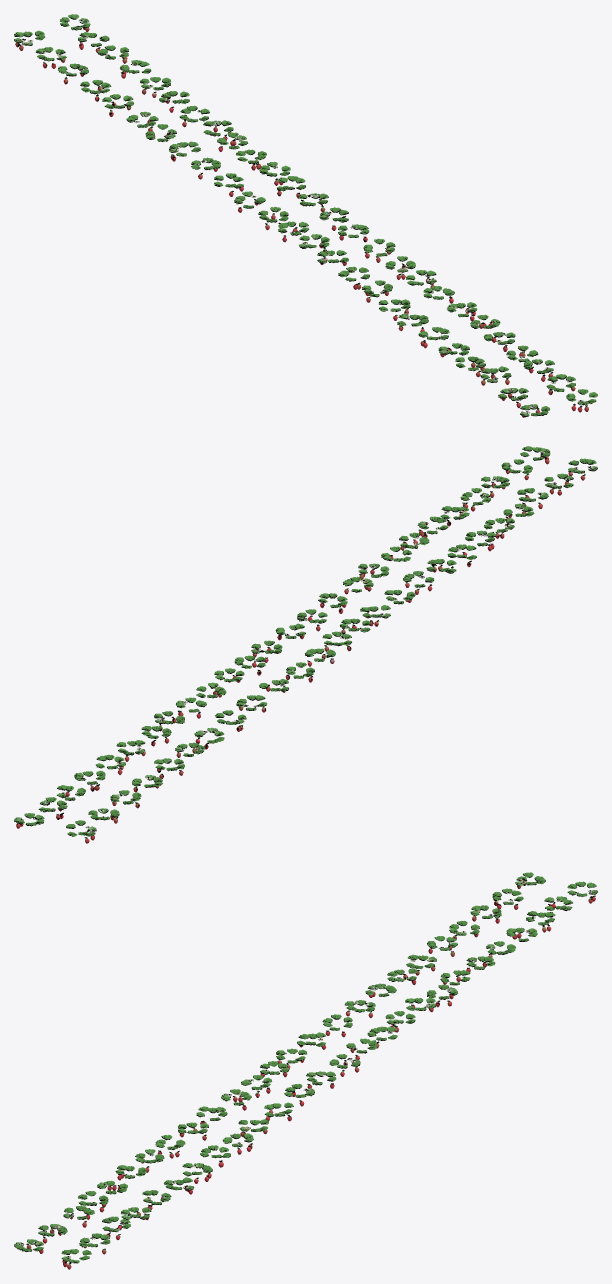
The model's file is SK_StrawberryRow.fbx.
3 views of the same model, one above another, from view 1: azimuth 30°, elevation 25°; view 2: azimuth 150°, elevation 25°; view 3: azimuth 330°, elevation 25° (orthographic).
Parts seen in each view (by area): view 1: SK_StrawberryRow; view 2: SK_StrawberryRow; view 3: SK_StrawberryRow.
Part boxes in pixels (<box>): SK_StrawberryRow: <box>14,14,597,417</box>; SK_StrawberryRow: <box>14,446,597,843</box>; SK_StrawberryRow: <box>14,872,597,1269</box>.
Size of the model in its own units: 212 by 35.24 by 2426.
Materials: 1 (1 with a texture image).
